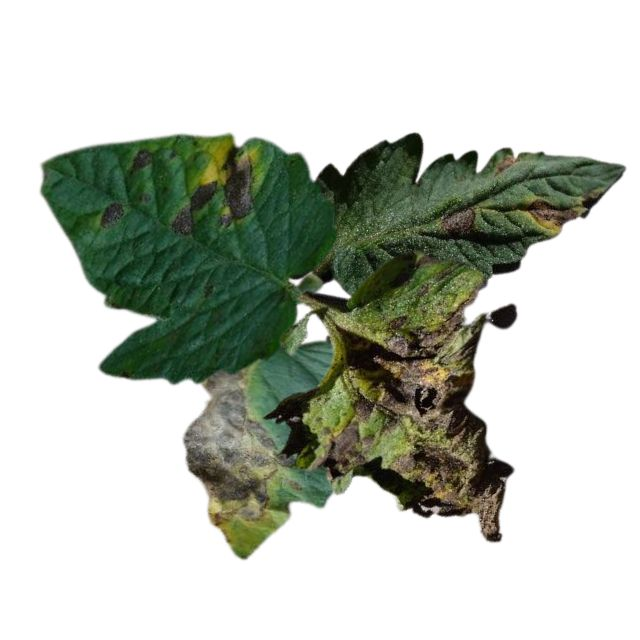Early_blight: (329, 308, 503, 541), (190, 368, 280, 529), (168, 147, 255, 236), (522, 200, 579, 233), (437, 203, 476, 234), (98, 199, 125, 228), (495, 153, 518, 178), (126, 149, 150, 170), (414, 251, 440, 269)
